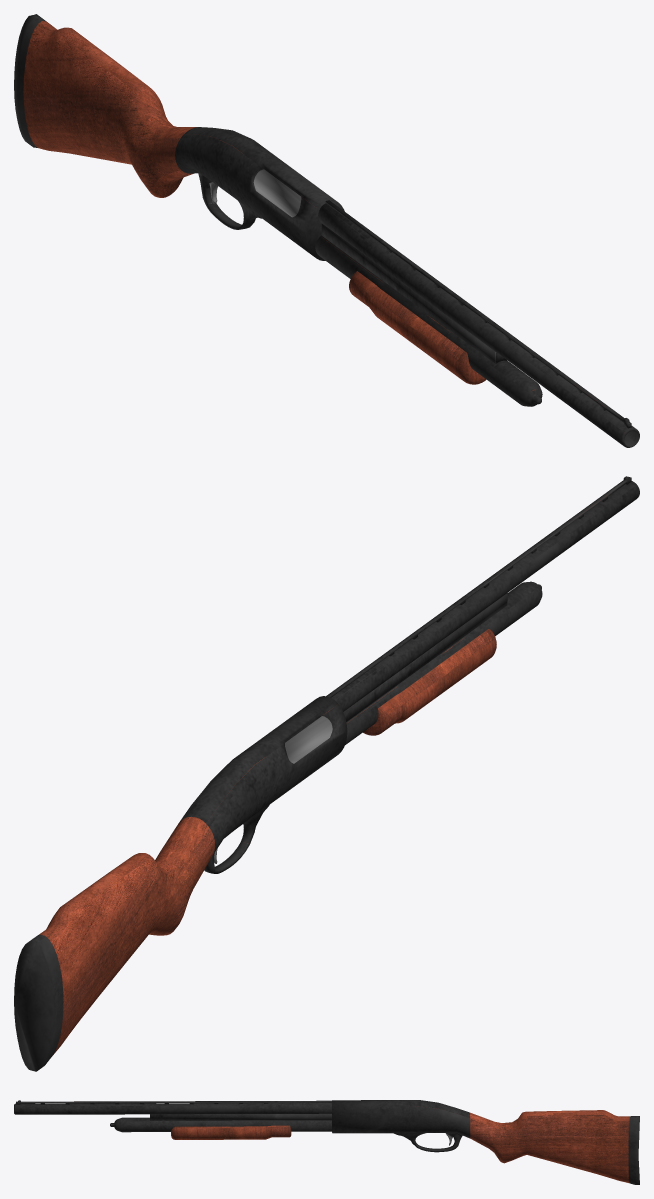
The model's file is Shotgun.fbx.
3 renders of one model, top to bottom at view 1: azimuth 30°, elevation 25°; view 2: azimuth 150°, elevation 25°; view 3: azimuth 270°, elevation 25°, orthographic. The views are drawn at different scales.
Parts seen in each view (by area): view 1: Cylinder, Cylinder.001; view 2: Cylinder, Cylinder.001; view 3: Cylinder, Cylinder.001.
Part boxes in pixels (bbox=[...]): Cylinder: bbox=[14, 14, 639, 447]; Cylinder.001: bbox=[349, 271, 486, 384]; Cylinder: bbox=[14, 476, 639, 1071]; Cylinder.001: bbox=[363, 629, 496, 735]; Cylinder: bbox=[14, 1100, 639, 1184]; Cylinder.001: bbox=[171, 1125, 291, 1139].
Bounding box in the file's own units: 0.5935 × 2.28 × 15.32.
